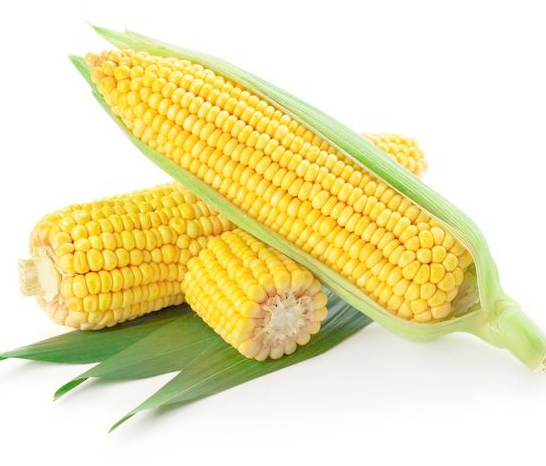corn: (95, 43, 524, 348), (36, 137, 428, 310)
